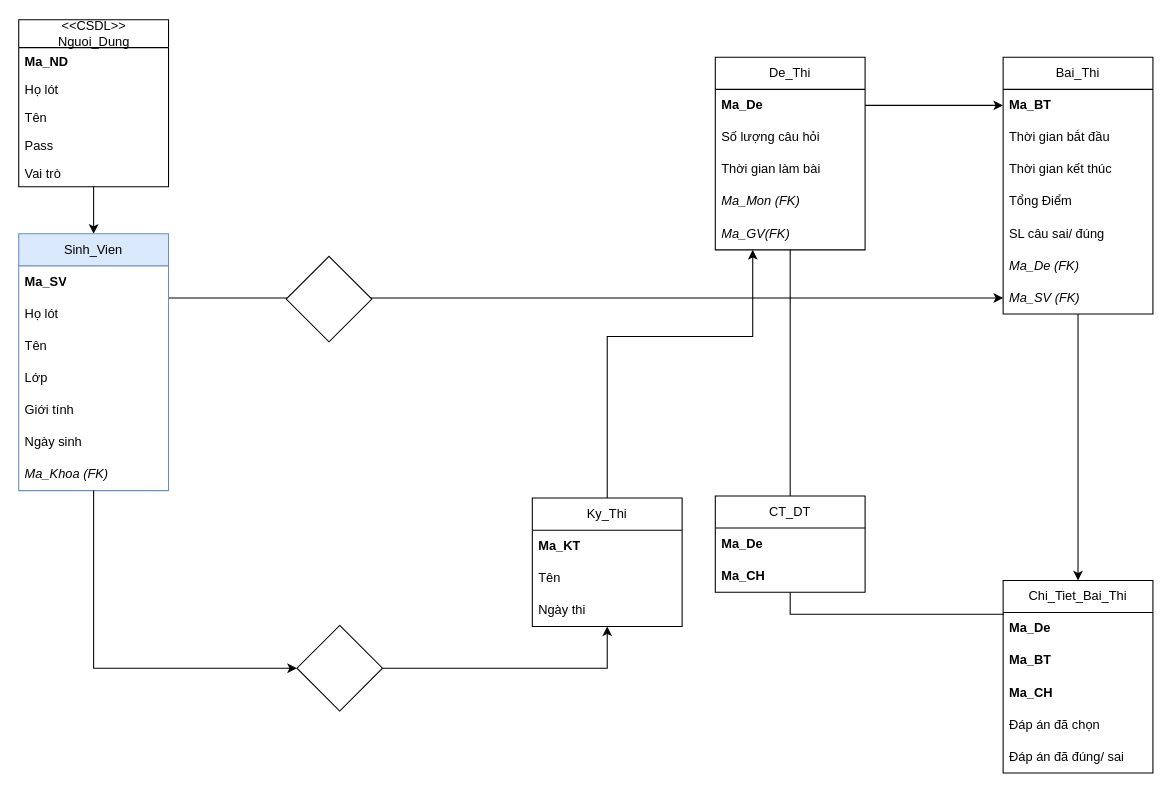
Image size: 1172x792. Some labels were removed from this diagram. The centre of each missing label's shape, as x and y in pixels:
"Làm Bài" belongs at (x=328, y=298).
"Tham Gia" belongs at (x=339, y=667).
